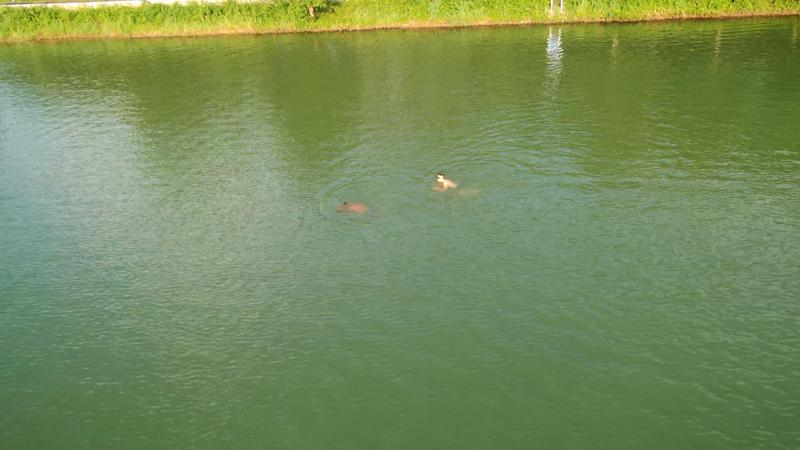swimmers: (429, 169, 482, 200), (333, 198, 380, 220)
